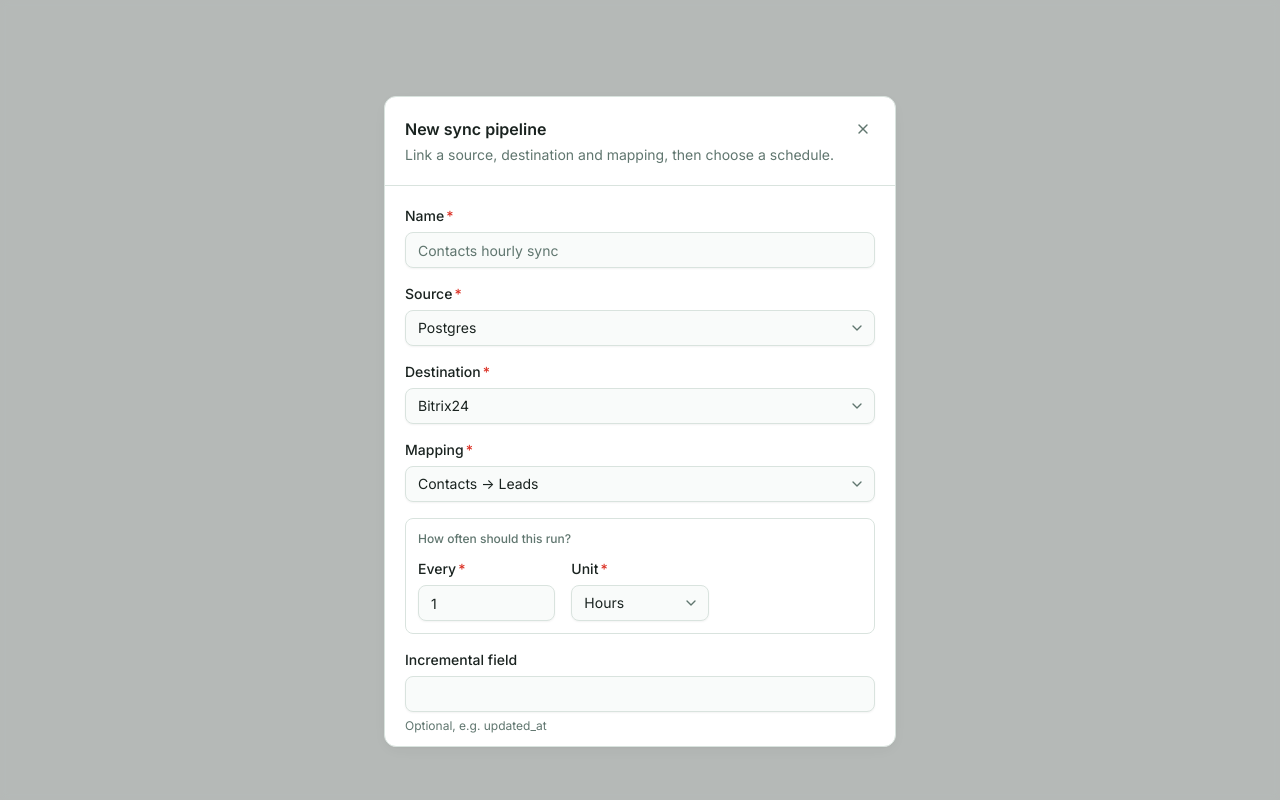
SyncFormModal › shows the time-of-day field only when the unit is days
Select "Days" in the dropdown labelled "Unit*" at (640, 603), box [571,585,709,621]
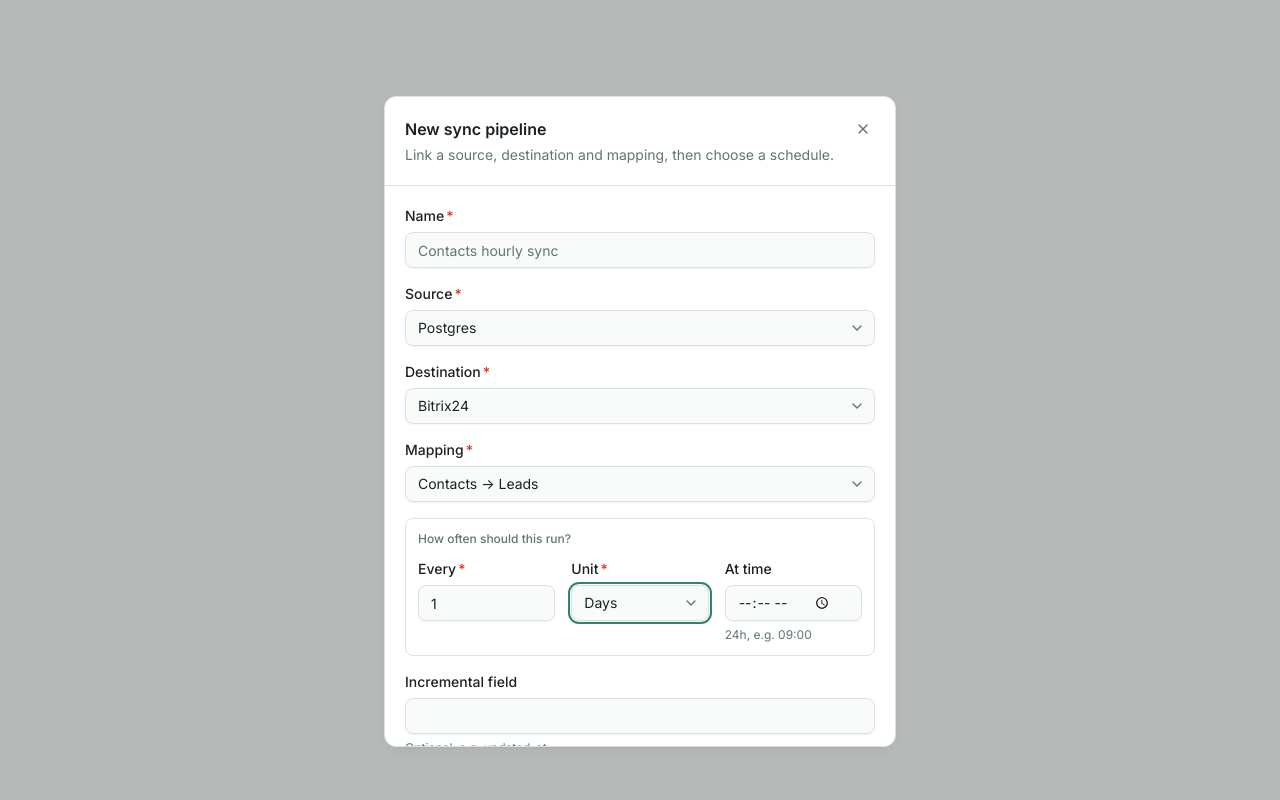
Expected: the time field labelled "At time" is shown, [725,585,862,621]
